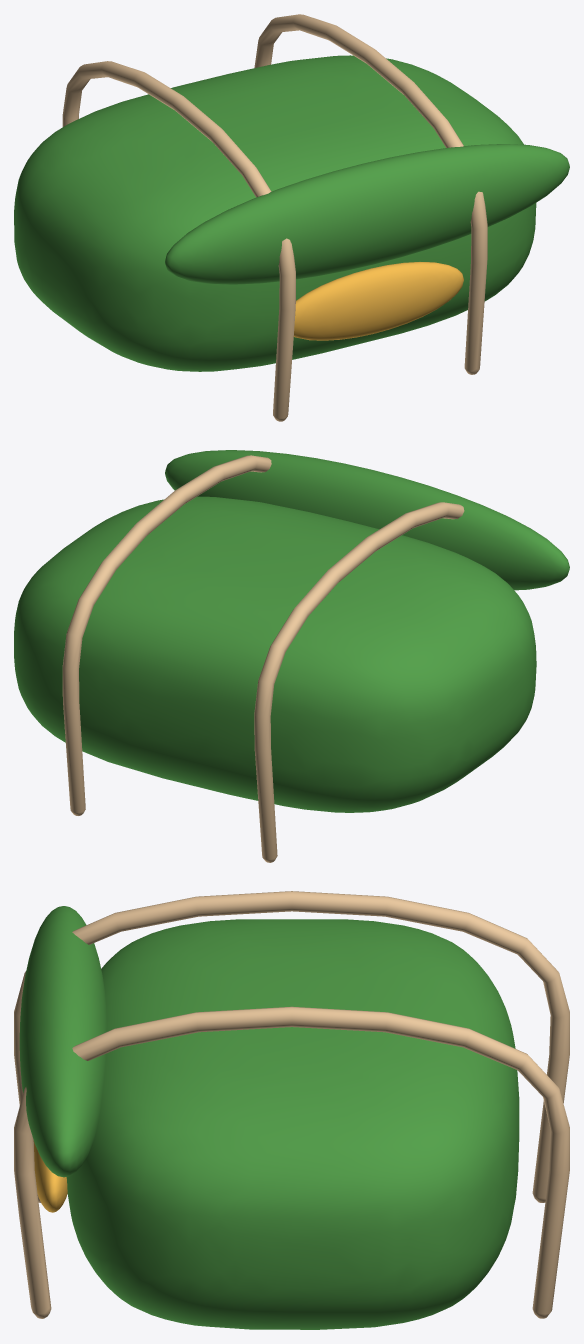
File: comida_tamal.glb
3 views of the same model, one above another, from view 1: azimuth 30°, elevation 25°; view 2: azimuth 150°, elevation 25°; view 3: azimuth 270°, elevation 25° (orthographic). The views are drawn at different scales.
Parts seen in each view (by area): view 1: tamal.001, doblez tamal.001, masa asomada.001, pita.002, pita.003; view 2: tamal.001, doblez tamal.001, pita.003, pita.002; view 3: tamal.001, pita.003, doblez tamal.001, pita.002, masa asomada.001.
Boxes of the visible parts, x1,y1,x2,y2 form: tamal.001: [14, 55, 536, 371]; doblez tamal.001: [165, 144, 569, 284]; masa asomada.001: [293, 262, 463, 340]; pita.002: [62, 61, 295, 421]; pita.003: [254, 14, 487, 374]; tamal.001: [14, 496, 536, 812]; doblez tamal.001: [165, 450, 569, 590]; pita.003: [62, 455, 271, 815]; pita.002: [254, 502, 464, 862]; tamal.001: [66, 919, 519, 1329]; pita.003: [14, 1006, 569, 1318]; doblez tamal.001: [19, 906, 106, 1177]; pita.002: [14, 891, 569, 1202]; masa asomada.001: [33, 1141, 67, 1212].
Size of the model in its own units: 0.2795 by 0.1502 by 0.2438.
